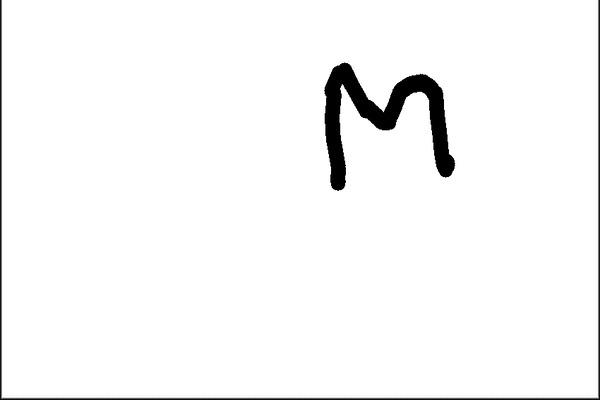M: (314, 60, 460, 186)
